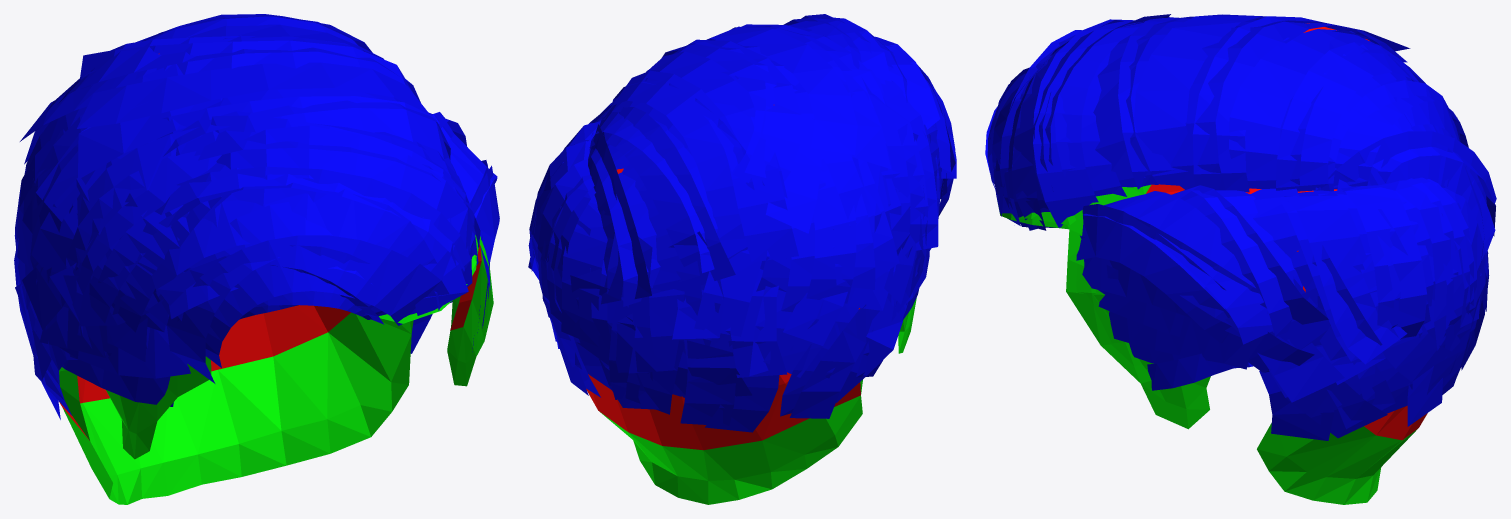
File: hair_002.obj
3 renders of one model, left to right at view 1: azimuth 30°, elevation 25°; view 2: azimuth 150°, elevation 25°; view 3: azimuth 270°, elevation 25°, orthographic. The views are drawn at different scales.
Size of the model in its own units: 19.2 by 21.31 by 21.93.
